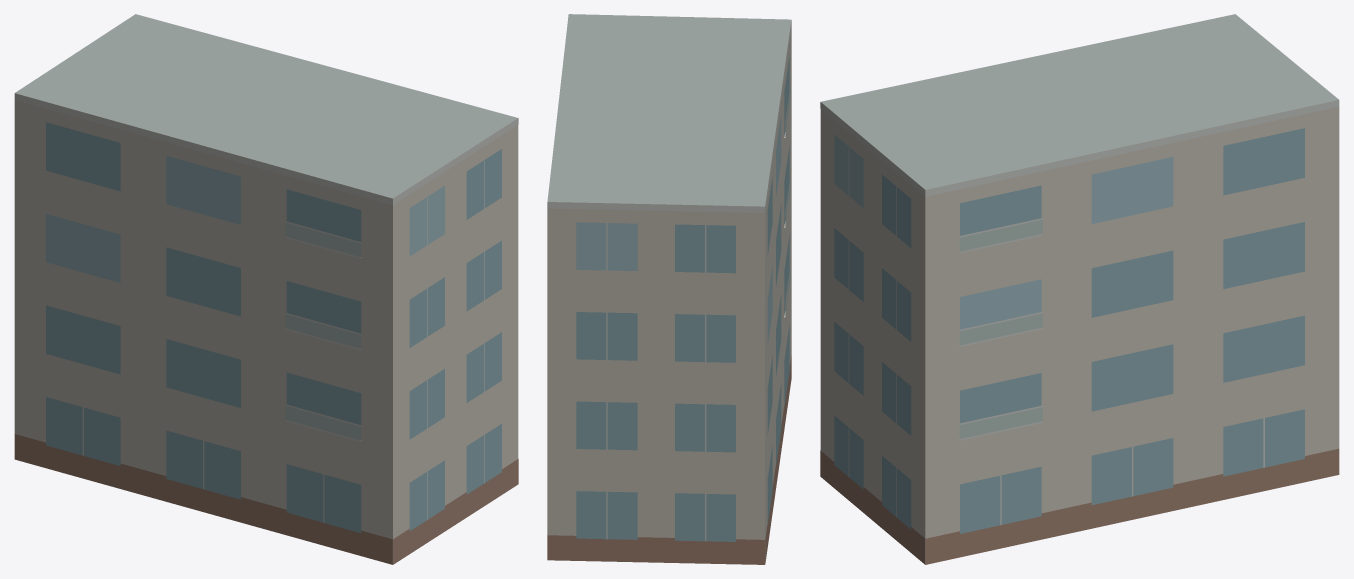
File: survey-upis-32726825.glb
3 views of the same model, side by side, from view 1: azimuth 30°, elevation 25°; view 2: azimuth 150°, elevation 25°; view 3: azimuth 270°, elevation 25° (orthographic). The views are drawn at different scales.
Visible parts, largest first — view 1: survey-upis-32726825.tmp; view 2: survey-upis-32726825.tmp; view 3: survey-upis-32726825.tmp.
Part boxes in pixels (left/top/right/bottom): survey-upis-32726825.tmp: left=14, top=14, right=518, bottom=564; survey-upis-32726825.tmp: left=547, top=14, right=791, bottom=564; survey-upis-32726825.tmp: left=820, top=14, right=1339, bottom=564.
Bounding box in the file's own units: 13.6 × 13.5 × 16.94.
